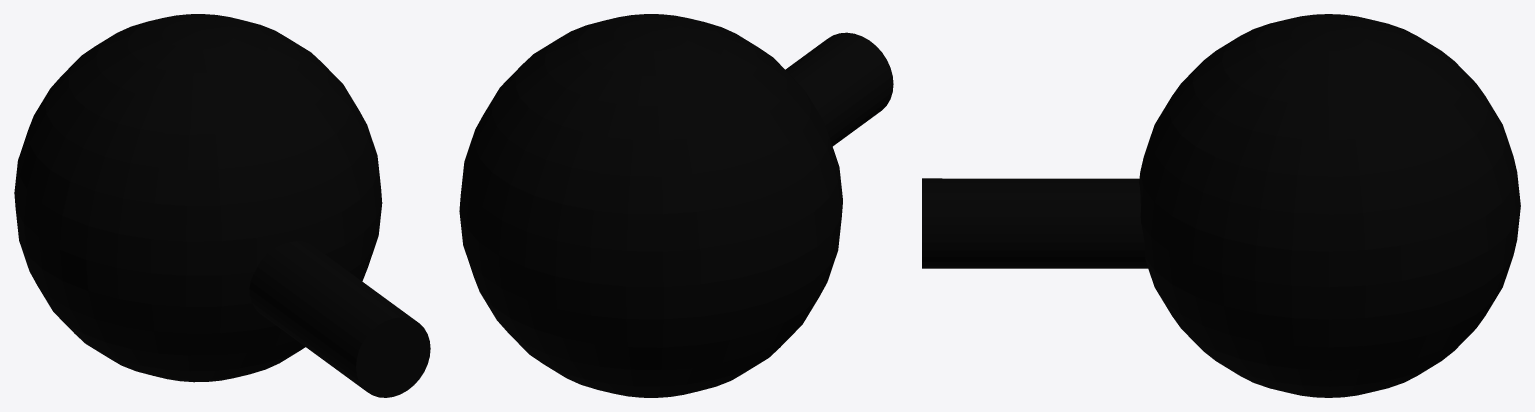
Rendered from Lever.obj.
3 views of the same model, side by side, from view 1: azimuth 30°, elevation 25°; view 2: azimuth 150°, elevation 25°; view 3: azimuth 270°, elevation 25° (orthographic). The views are drawn at different scales.
Visible parts, largest first — view 1: 円柱; view 2: 円柱; view 3: 円柱.
Part boxes in pixels (left/top/right/bottom): 円柱: left=14, top=14, right=430, bottom=397; 円柱: left=459, top=14, right=893, bottom=397; 円柱: left=922, top=14, right=1520, bottom=397.
Size of the model in its own units: 2 by 2 by 3.12.
Materials: 1 (1 with a texture image).
